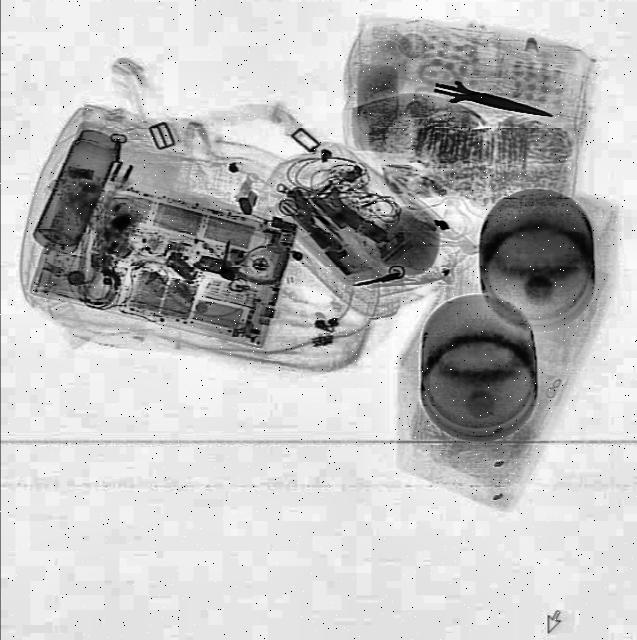Knife: (431, 77, 558, 133)
